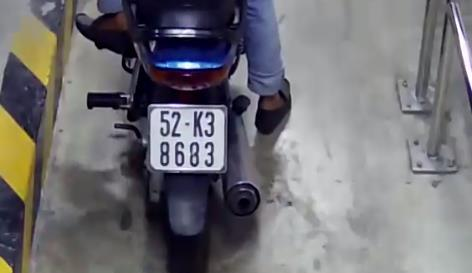lisence: (149, 104, 226, 173)
